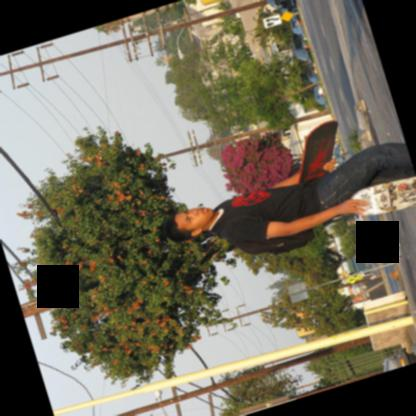backpack: (219, 227, 315, 254)
